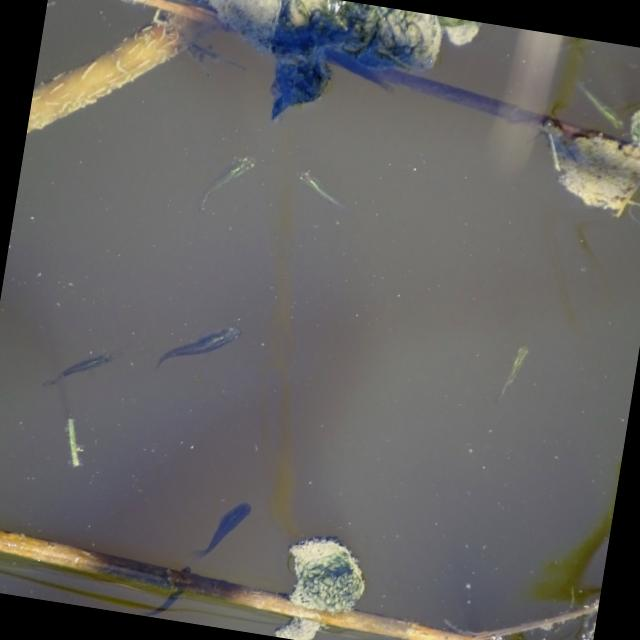Sivrisinek Baligi: (152, 309, 242, 389), (189, 490, 257, 568), (192, 144, 256, 223), (38, 338, 112, 404), (42, 412, 98, 479), (290, 162, 349, 220), (490, 338, 533, 406)
